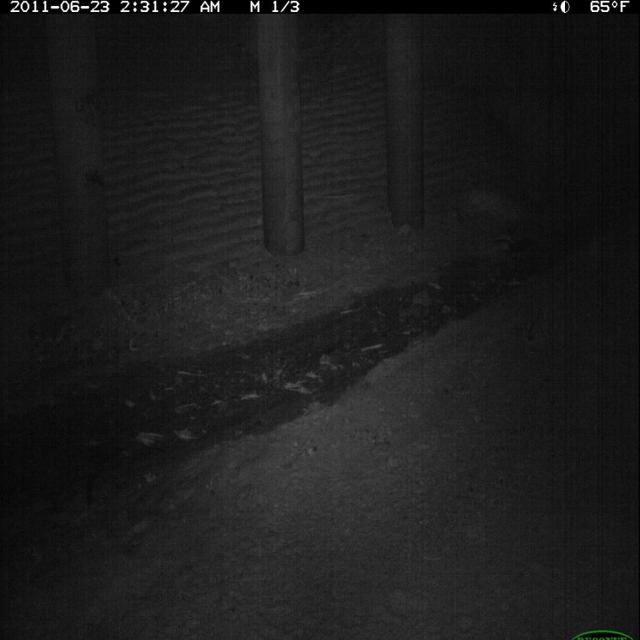cat: (33, 434, 132, 514)
